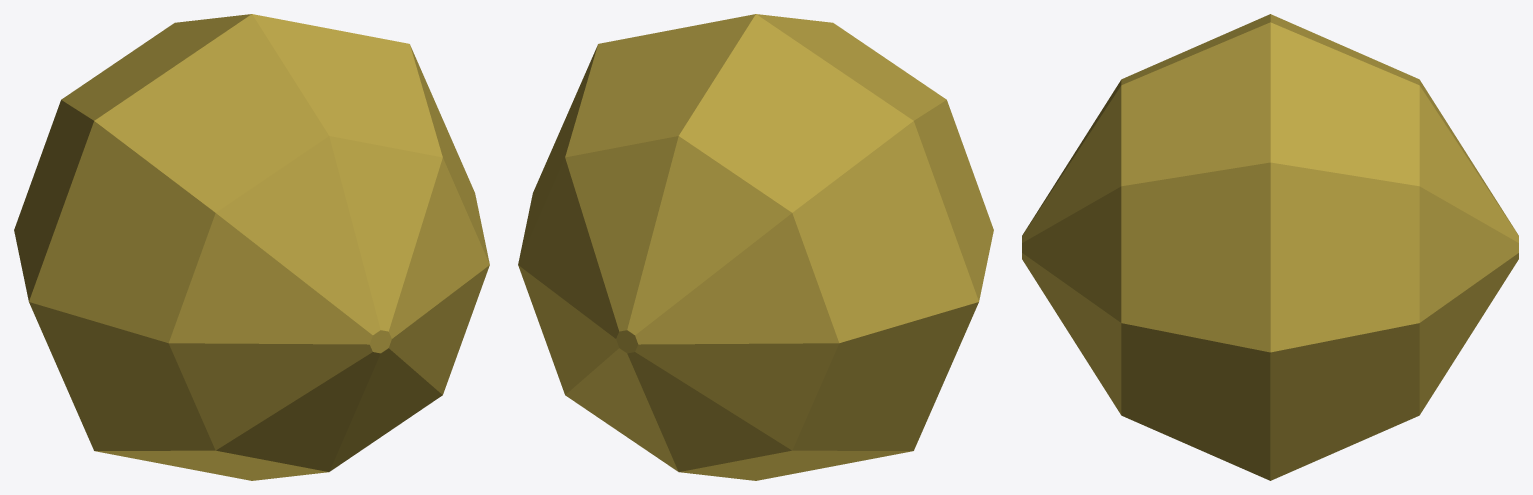
File: Droplet.fbx
3 renders of one model, left to right at view 1: azimuth 30°, elevation 25°; view 2: azimuth 150°, elevation 25°; view 3: azimuth 270°, elevation 25°, orthographic. The views are drawn at different scales.
Visible parts, largest first — view 1: Droplet; view 2: Droplet; view 3: Droplet.
Boxes of the visible parts, <box> form: Droplet: <box>14,14,489,480</box>; Droplet: <box>518,14,993,480</box>; Droplet: <box>1022,14,1518,480</box>.
Bounding box in the file's own units: 1 × 1 × 1.
